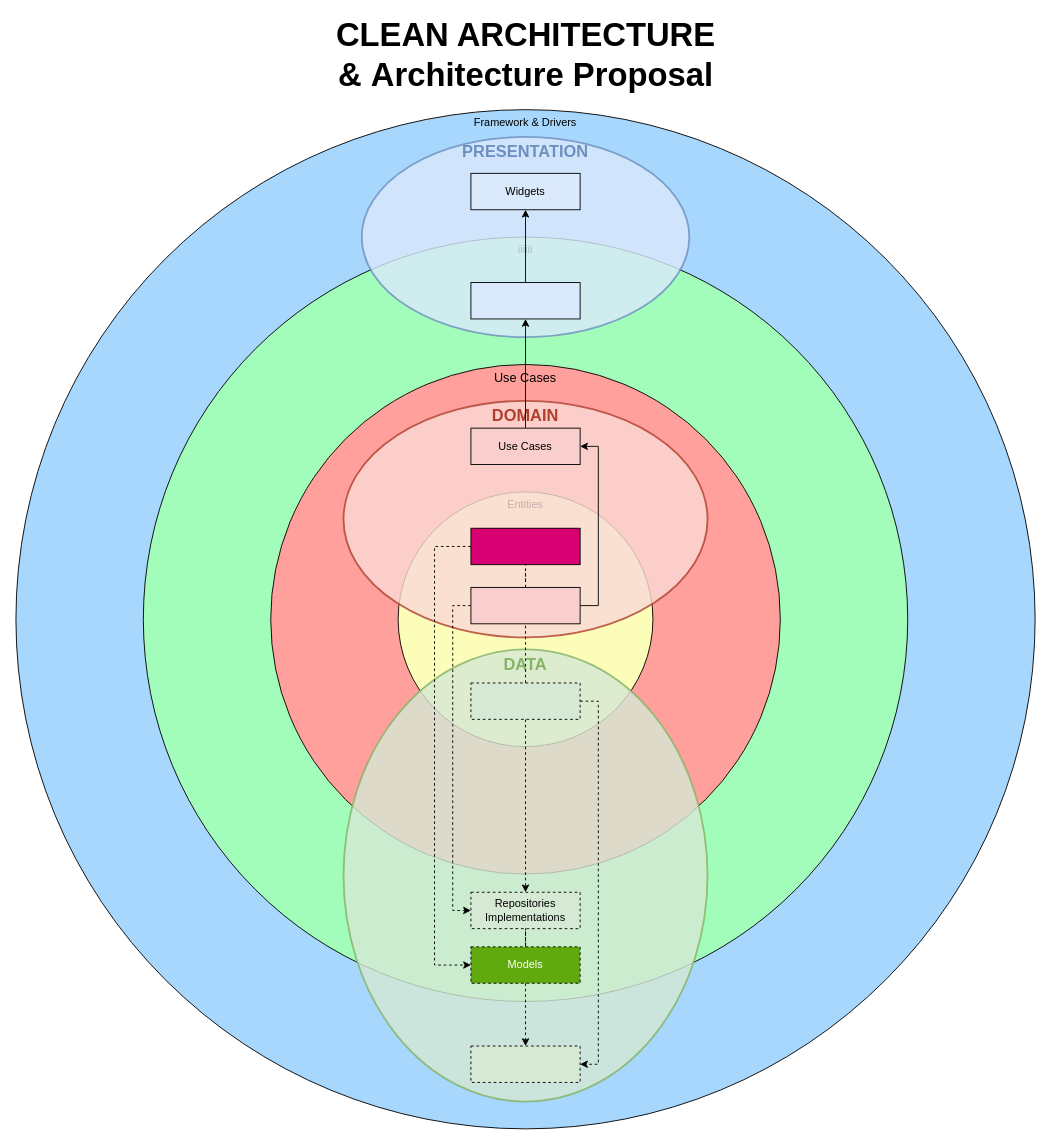
Some shapes in this 1051 by 1145 pixel diagram are drawn without their labels. Each missing label, with the centre of its shape:
Concret Class: point (525, 546)
Data Sources Contract: point (525, 700)
Data Sources Implementations: point (525, 1063)
Providers: point (525, 300)
Repositories Contract: point (525, 605)
